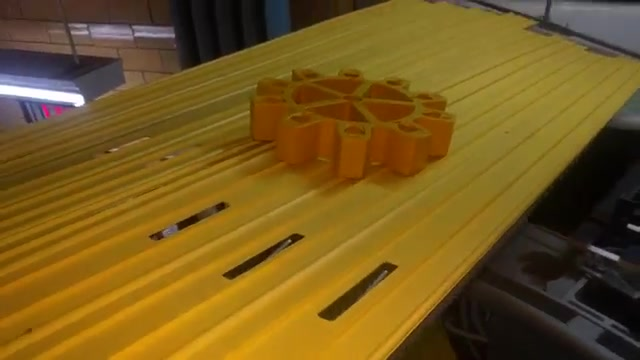gear: (238, 45, 462, 203), (245, 52, 468, 187)
